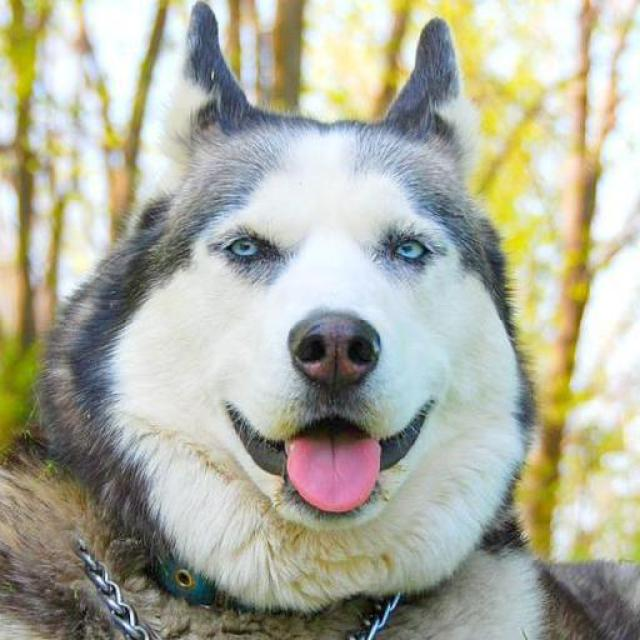happy: (64, 0, 560, 640)
